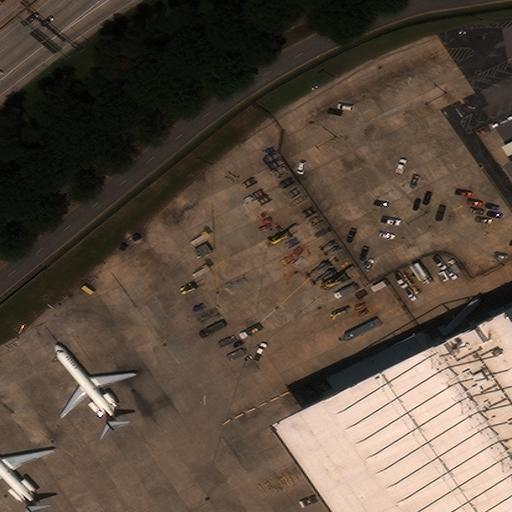Medium Civil Transport: (54, 341, 135, 433), (0, 431, 54, 512)
